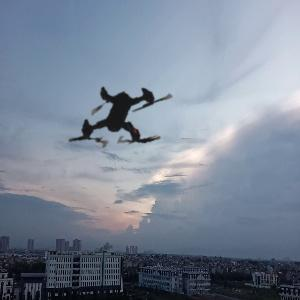drone: (42, 41, 200, 199)
